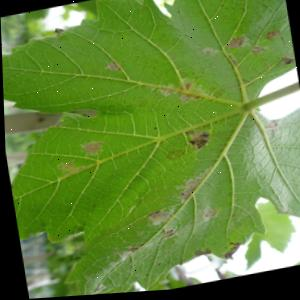Folha: (0, 0, 300, 300)
Fungo: (170, 167, 218, 207), (172, 179, 204, 206), (173, 83, 201, 108), (185, 130, 211, 156), (141, 210, 170, 231), (219, 243, 245, 265), (78, 140, 104, 161), (55, 159, 85, 177), (66, 108, 98, 123), (223, 38, 251, 55), (198, 207, 218, 226), (155, 85, 176, 101), (163, 151, 186, 165), (175, 95, 200, 107), (262, 124, 279, 140), (103, 61, 121, 76), (200, 48, 219, 61), (175, 85, 194, 98), (248, 48, 267, 60), (263, 33, 281, 45), (191, 250, 210, 260), (226, 56, 238, 71), (125, 245, 144, 254), (280, 59, 295, 70), (202, 211, 217, 222), (161, 231, 175, 240), (52, 29, 66, 37), (263, 125, 277, 133), (182, 85, 194, 94), (127, 248, 137, 254), (184, 132, 194, 138), (186, 143, 195, 148), (153, 130, 157, 133)
